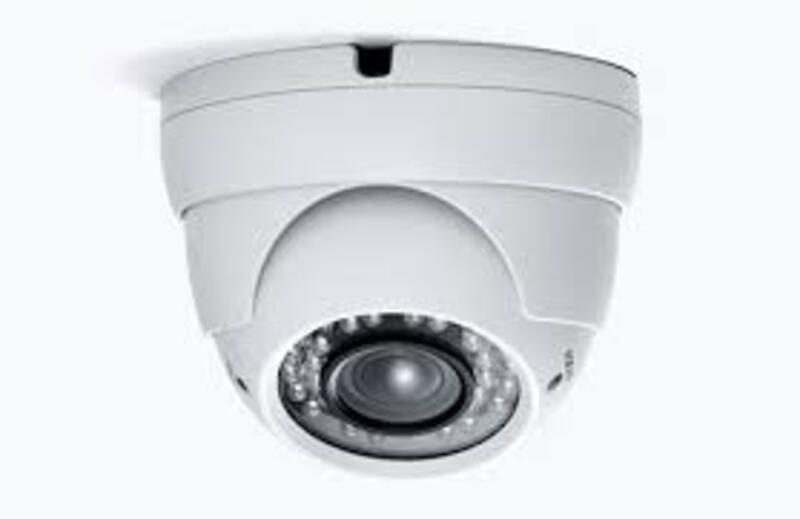turret: (145, 69, 657, 484)
